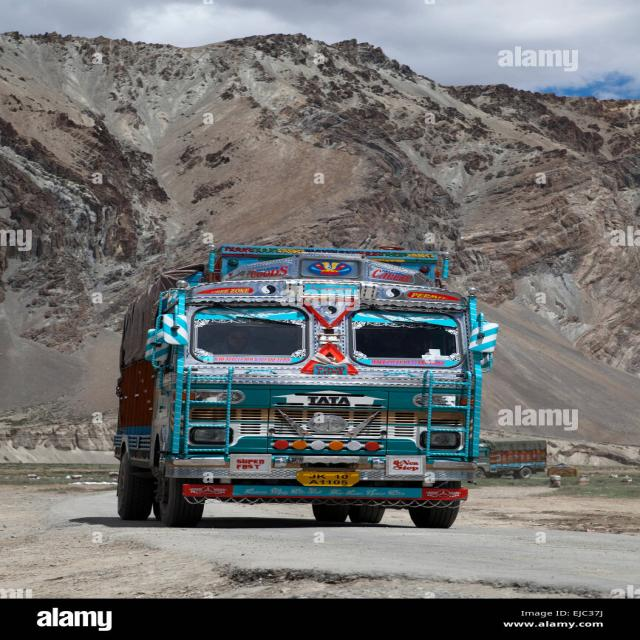normal_truck: (114, 245, 498, 529)
